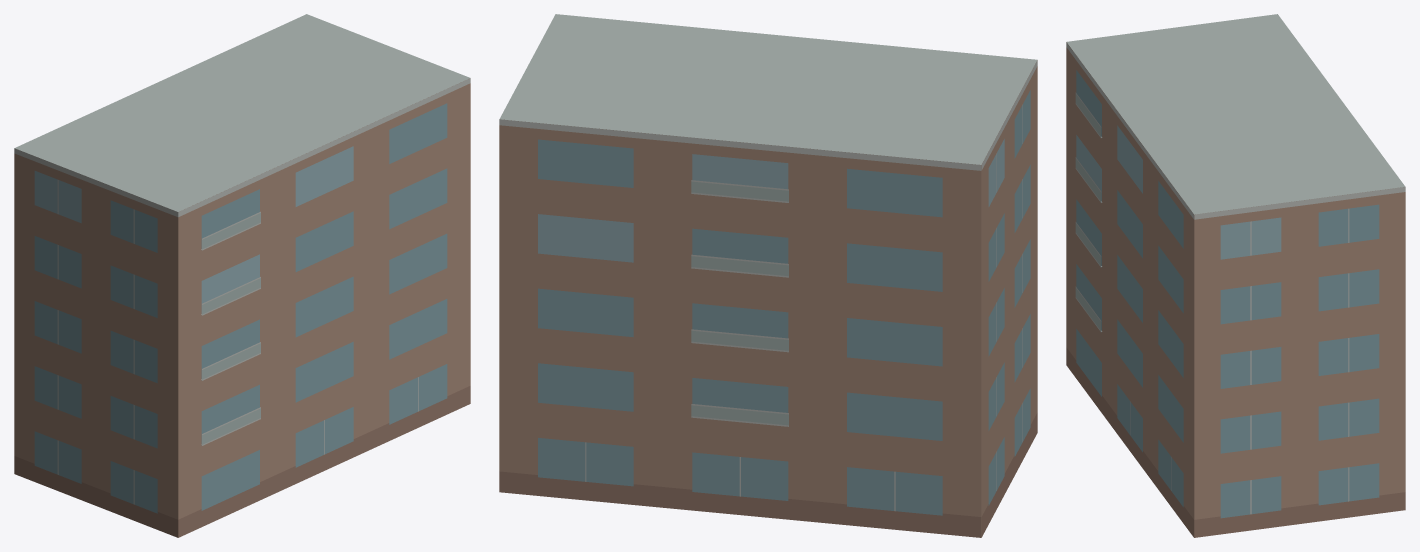
The model's file is survey-upis-32769740.glb.
The picture shows the model from 3 angles, left to right: view 1: azimuth 30°, elevation 25°; view 2: azimuth 150°, elevation 25°; view 3: azimuth 270°, elevation 25°; orthographic projection. The views are drawn at different scales.
Parts seen in each view (by area): view 1: survey-upis-32769740.tmp; view 2: survey-upis-32769740.tmp; view 3: survey-upis-32769740.tmp.
Part boxes in pixels (bbox=[...]): survey-upis-32769740.tmp: bbox=[14, 14, 470, 537]; survey-upis-32769740.tmp: bbox=[499, 14, 1037, 537]; survey-upis-32769740.tmp: bbox=[1066, 14, 1405, 537].
Size of the model in its own units: 20.3 by 15.25 by 14.51.
